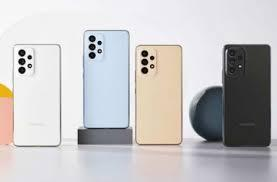Smartphone: (9, 43, 62, 151), (131, 41, 185, 145), (221, 41, 274, 145), (85, 29, 132, 129)
